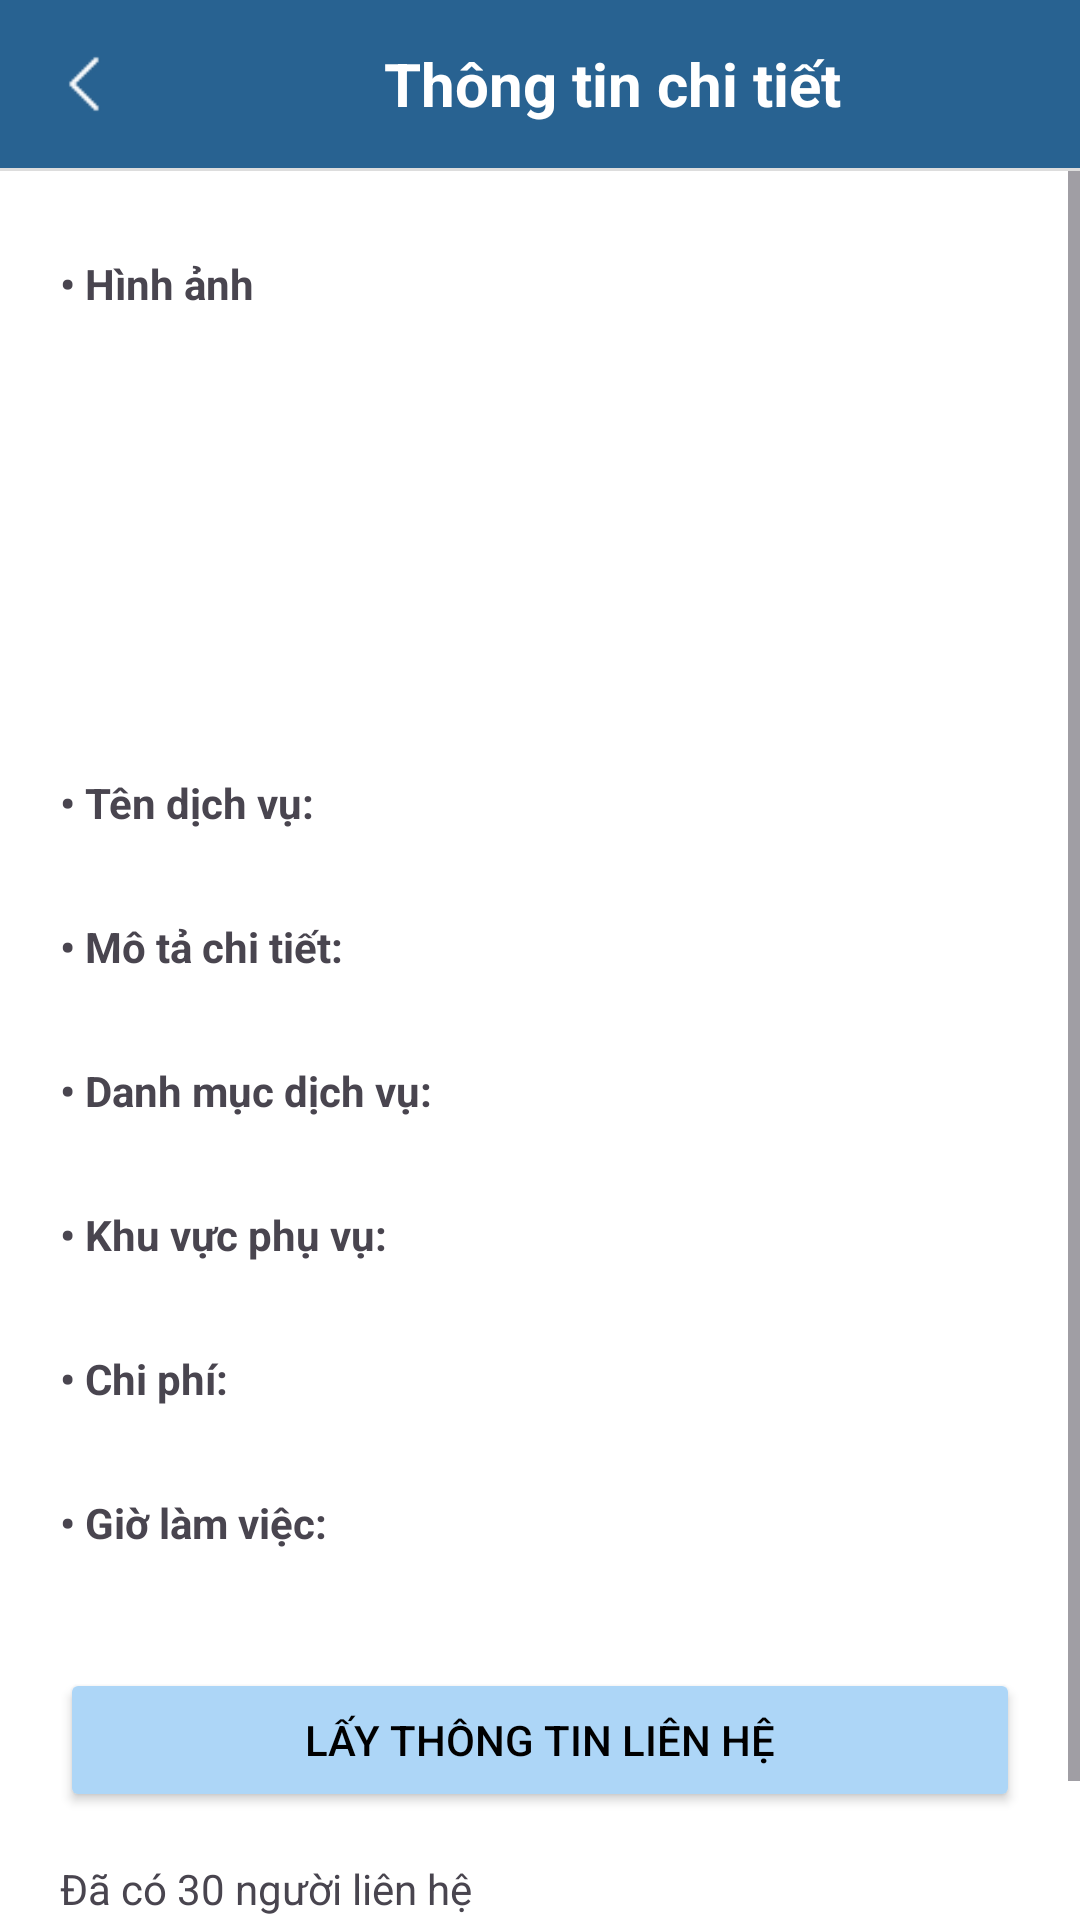

Point at icon controls on the screen. Image size 1080w x 1920h, points as (x=x, y=y).
Quay lại: (x=84, y=84)
